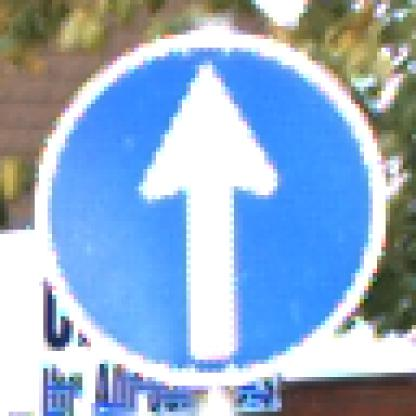AheadOnly: (36, 36, 382, 382)
